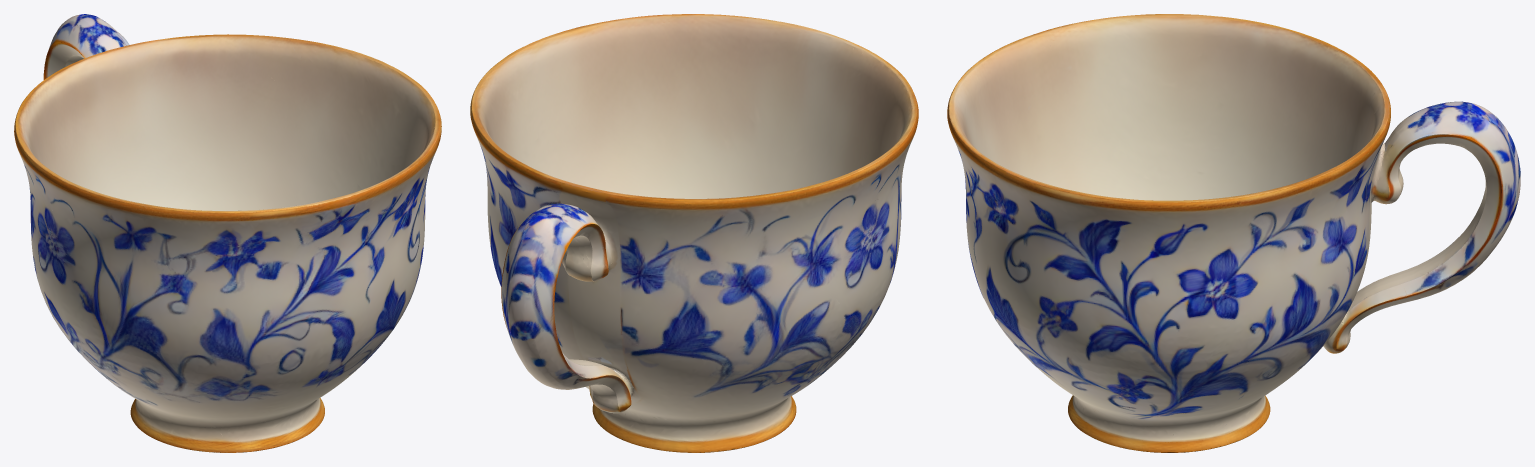
The model's file is teacup.glb.
3 renders of one model, left to right at view 1: azimuth 30°, elevation 25°; view 2: azimuth 150°, elevation 25°; view 3: azimuth 270°, elevation 25°, orthographic. The views are drawn at different scales.
Parts seen in each view (by area): view 1: model; view 2: model; view 3: model.
Part boxes in pixels (<box>): model: <box>14,14,441,452</box>; model: <box>470,14,918,452</box>; model: <box>947,14,1520,452</box>.
Size of the model in its own units: 1.49 by 1.12 by 1.9.
1 material, 1 textured.
